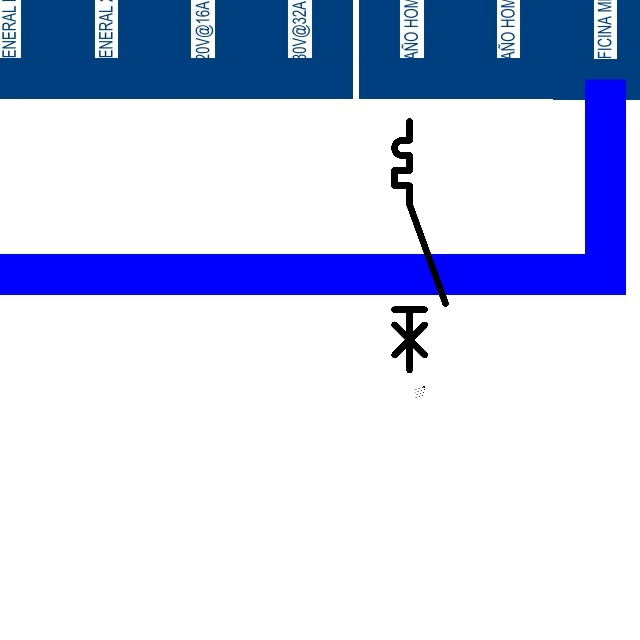interruptor_termomagnetico: (388, 115, 452, 376)
